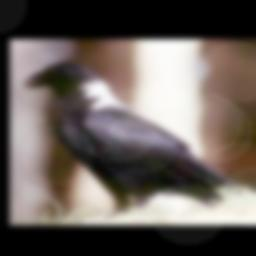Crow: (21, 55, 247, 217)
